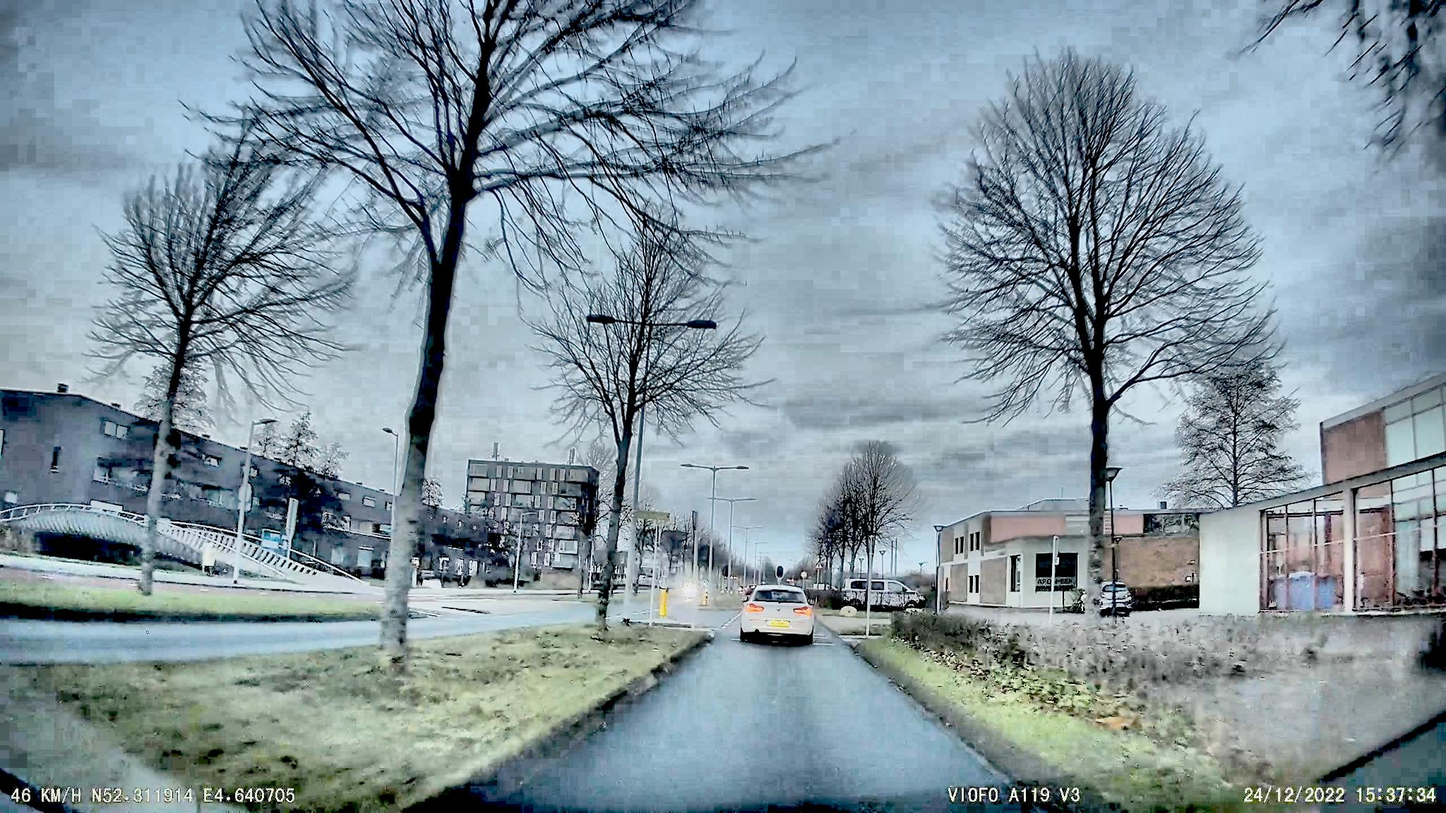Roads: (508, 635, 1010, 813)
